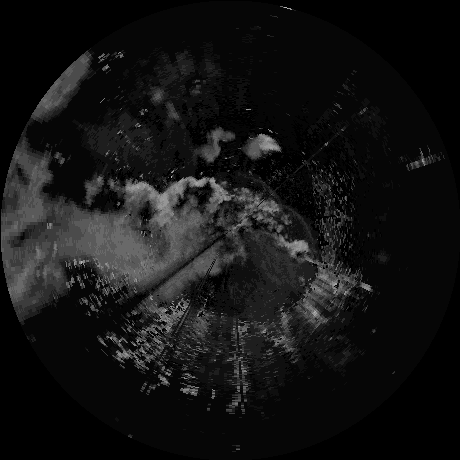frontgust: (287, 208, 318, 255), (254, 175, 284, 202)
